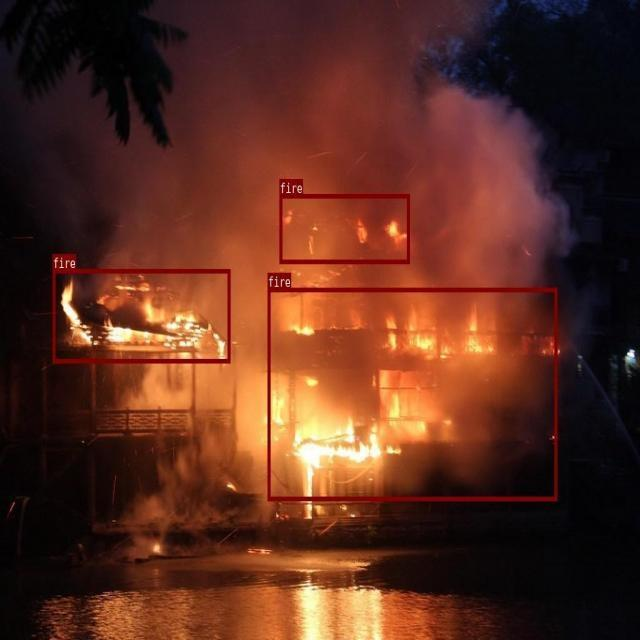fire: (268, 287, 557, 500), (52, 268, 229, 362), (279, 194, 409, 263)
